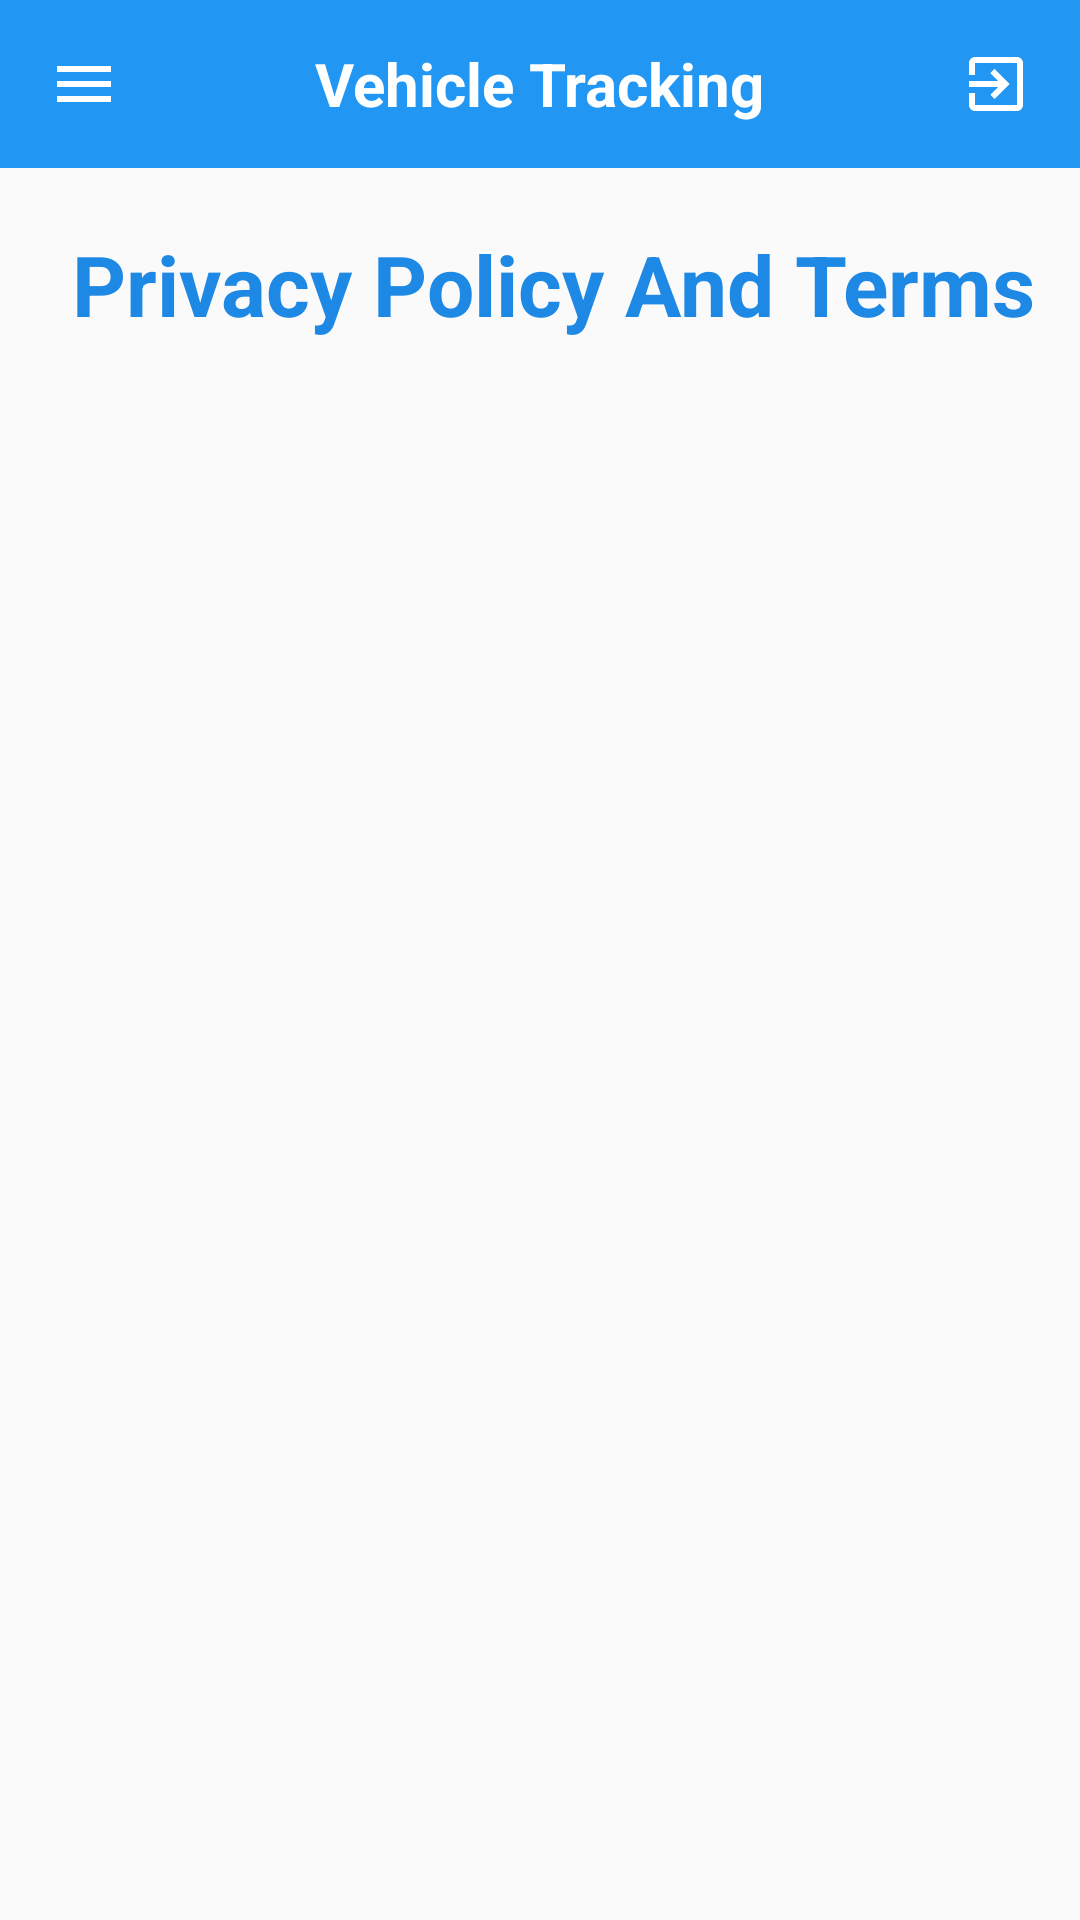

Named icons in this screenshot (1080x1920) and their bounding boxes, (x1, y1, x2, y2):
menu: (57, 66, 111, 102)
